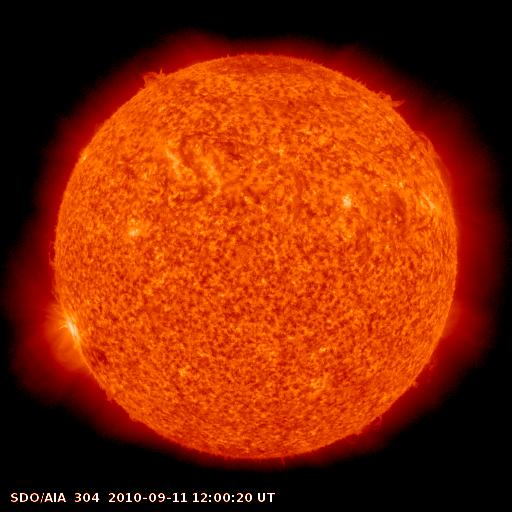prominence: (410, 127, 457, 199), (369, 75, 409, 114), (39, 227, 66, 277), (135, 61, 172, 97)
